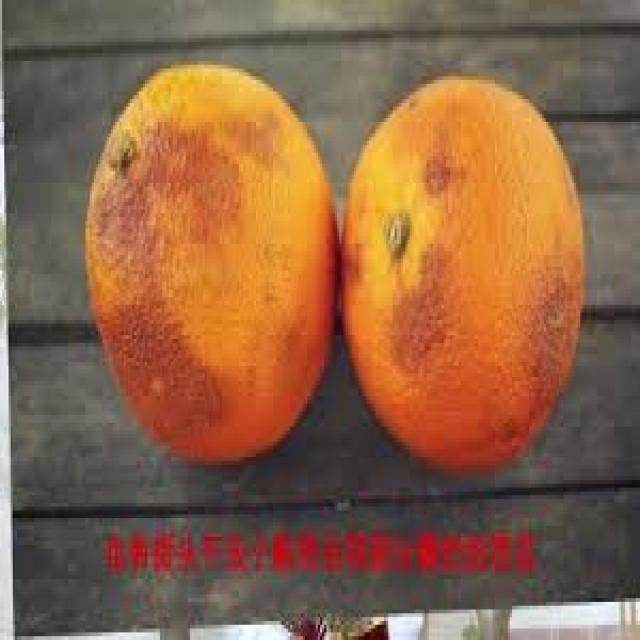organic: (83, 61, 341, 469), (349, 96, 587, 491)
